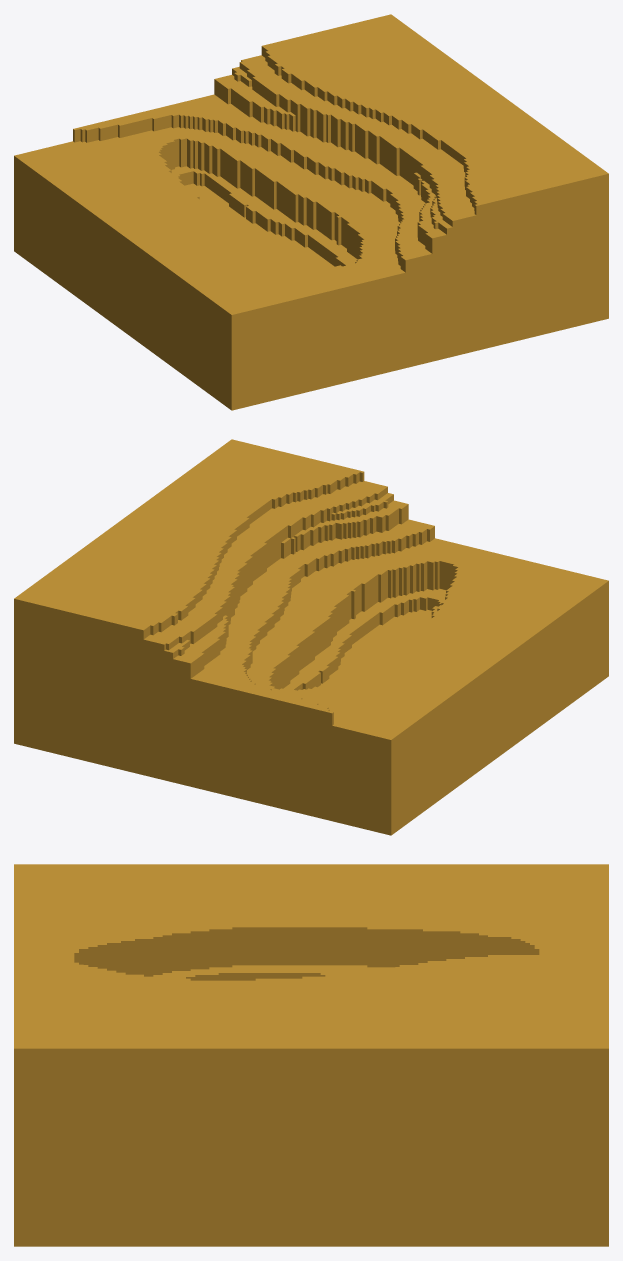
3 renders of one model, top to bottom at view 1: azimuth 30°, elevation 25°; view 2: azimuth 150°, elevation 25°; view 3: azimuth 270°, elevation 25°, orthographic. The views are drawn at different scales.
Visible parts, largest first — view 1: 14D; view 2: 14D; view 3: 14D.
Boxes of the visible parts, x1,y1,x2,y2 form: 14D: (14, 14, 608, 410); 14D: (14, 439, 608, 835); 14D: (14, 864, 608, 1246).
Size of the model in its own units: 12.8 by 4.7 by 12.8.
Materials: 1 (1 with a texture image).
